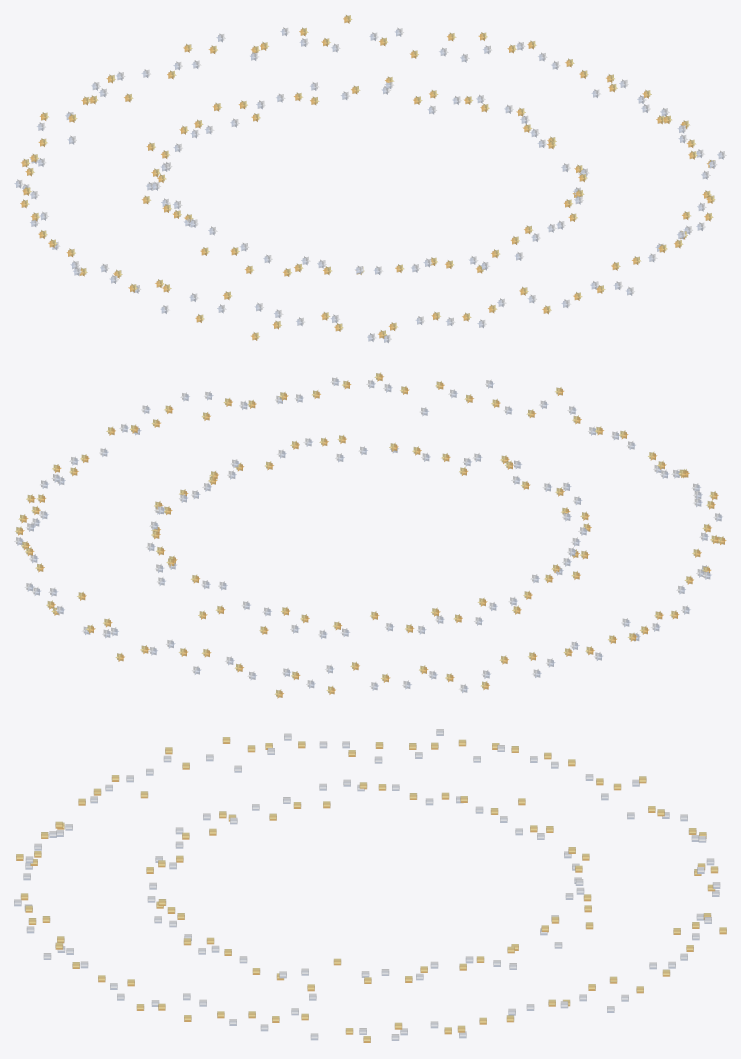
Rendered from fw_ring_teal_blue_c.glb.
3 renders of one model, top to bottom at view 1: azimuth 30°, elevation 25°; view 2: azimuth 150°, elevation 25°; view 3: azimuth 270°, elevation 25°, orthographic.
Parts seen in each view (by area): view 1: spire; view 2: spire; view 3: spire.
Part boxes in pixels (x1=…): spire: x1=14, y1=15, x2=726, y2=343; spire: x1=14, y1=372, x2=726, y2=698; spire: x1=14, y1=729, x2=726, y2=1042.
Bounding box in the file's own units: 22.07 × 1.62 × 22.3.
2 materials, 2 textured.
